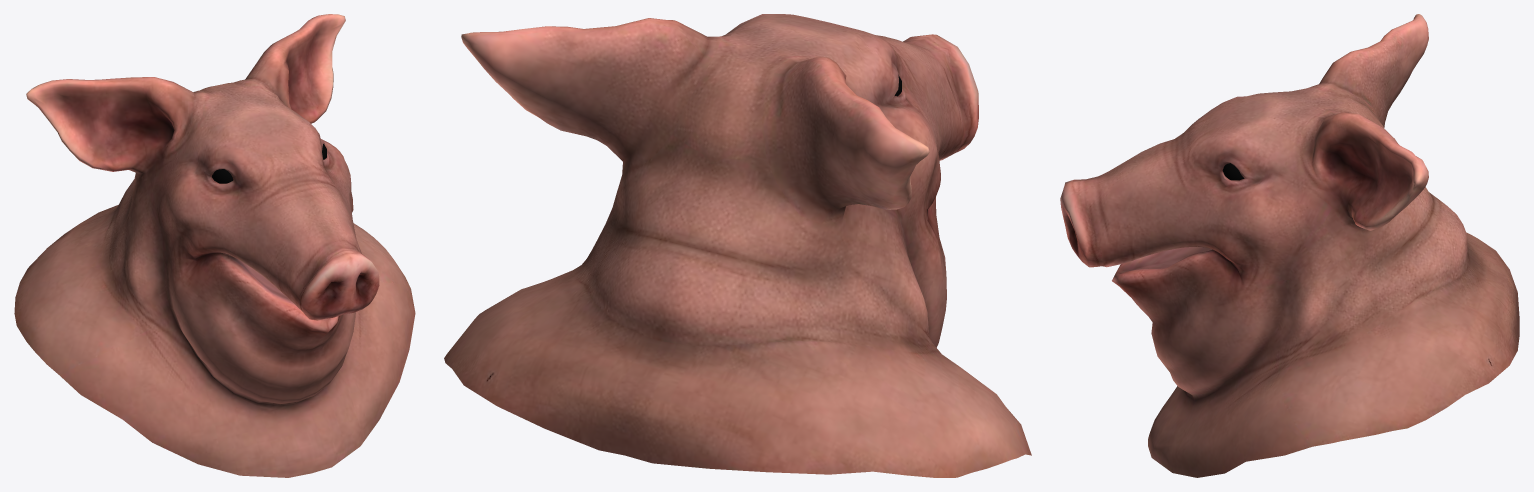
File: pig.glb
3 views of the same model, side by side, from view 1: azimuth 30°, elevation 25°; view 2: azimuth 150°, elevation 25°; view 3: azimuth 270°, elevation 25° (orthographic). The views are drawn at different scales.
Visible parts, largest first — view 1: file1; view 2: file1; view 3: file1.
Part boxes in pixels (x1,y1,x2,y2): file1: (14,14,415,477); file1: (444,14,1031,477); file1: (1060,14,1519,477).
Bounding box in the file's own units: 2.15 × 1.93 × 2.22.
Materials: 2 (1 with a texture image).
